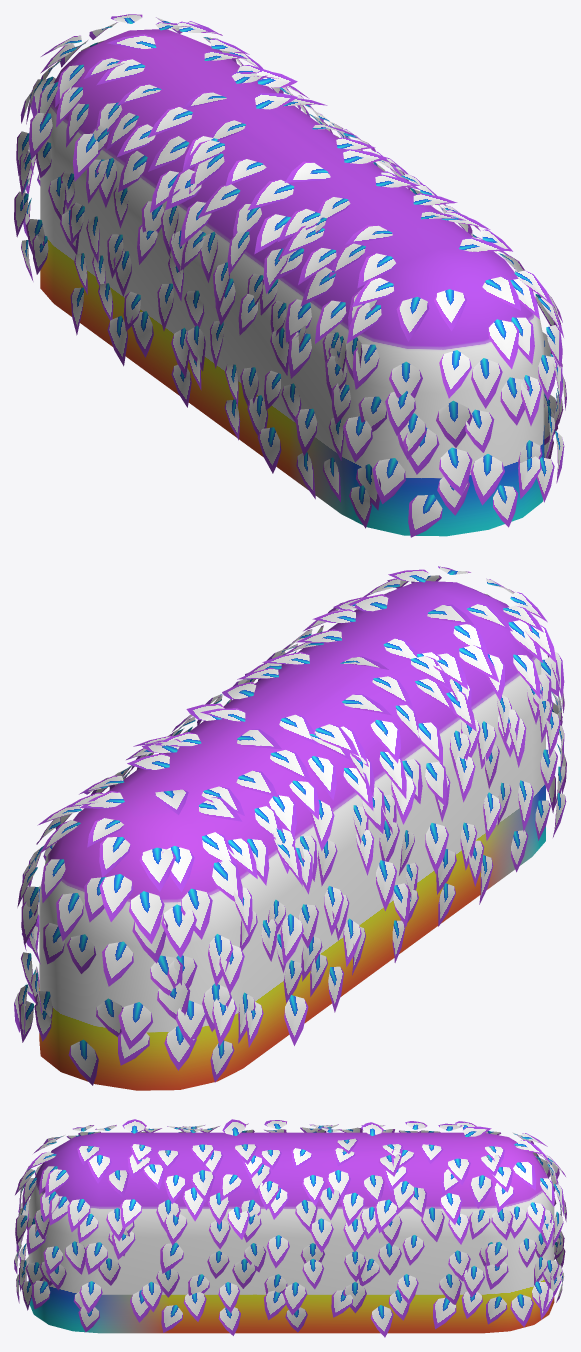
Rendered from Hedge.fbx.
The picture shows the model from 3 angles, top to bottom: view 1: azimuth 30°, elevation 25°; view 2: azimuth 150°, elevation 25°; view 3: azimuth 270°, elevation 25°; orthographic projection. The views are drawn at different scales.
Parts seen in each view (by area): view 1: Cube.007; view 2: Cube.007; view 3: Cube.007.
Part boxes in pixels (box(x1,y1,x2,y2)): Cube.007: box(14, 14, 566, 537); Cube.007: box(14, 566, 566, 1090); Cube.007: box(14, 1119, 566, 1337).
Bounding box in the file's own units: 101 × 108 × 315.
